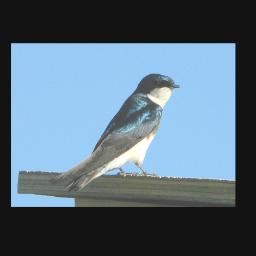Swallow: (47, 73, 181, 194)
